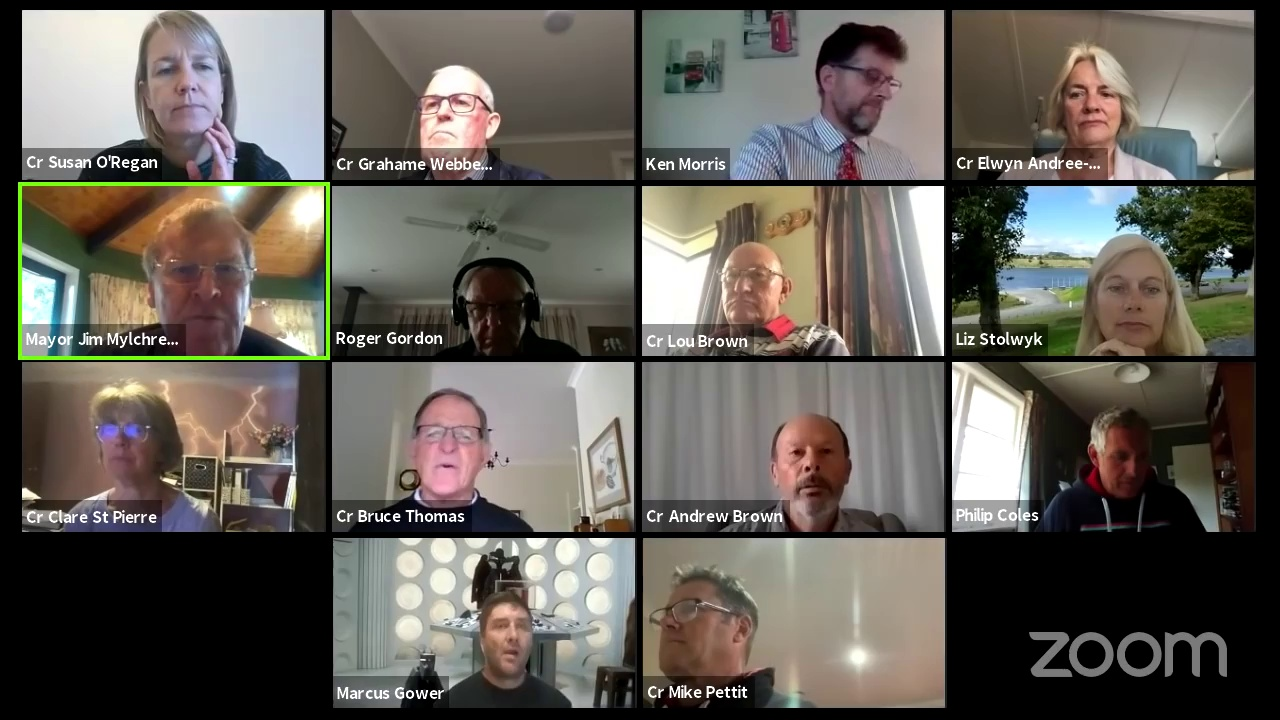Distracted: (653, 574, 753, 678), (820, 35, 897, 130), (1079, 407, 1161, 492)
Not Distracted: (148, 216, 254, 342), (134, 25, 239, 137), (1079, 233, 1180, 347), (1048, 43, 1140, 148), (770, 417, 852, 511), (412, 69, 494, 162), (86, 394, 170, 484), (408, 398, 488, 491), (458, 257, 530, 346), (719, 247, 784, 320), (480, 587, 536, 669)
